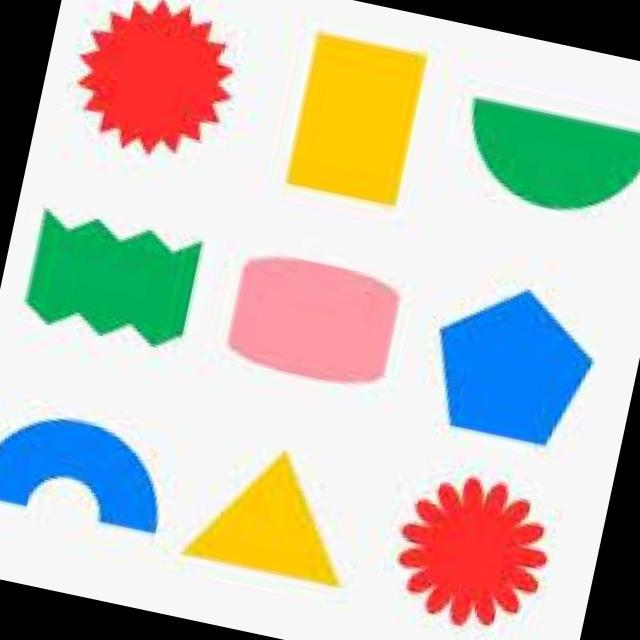square: (258, 11, 443, 238)
triangle: (170, 421, 368, 614)
